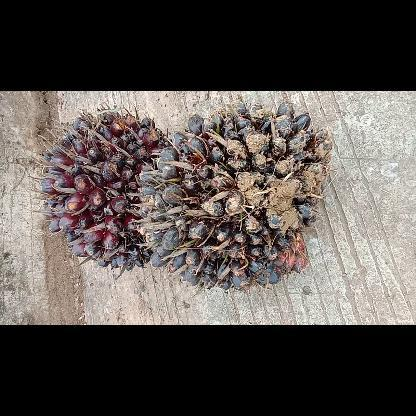TBS mentah: (137, 100, 333, 294), (35, 105, 174, 271)
